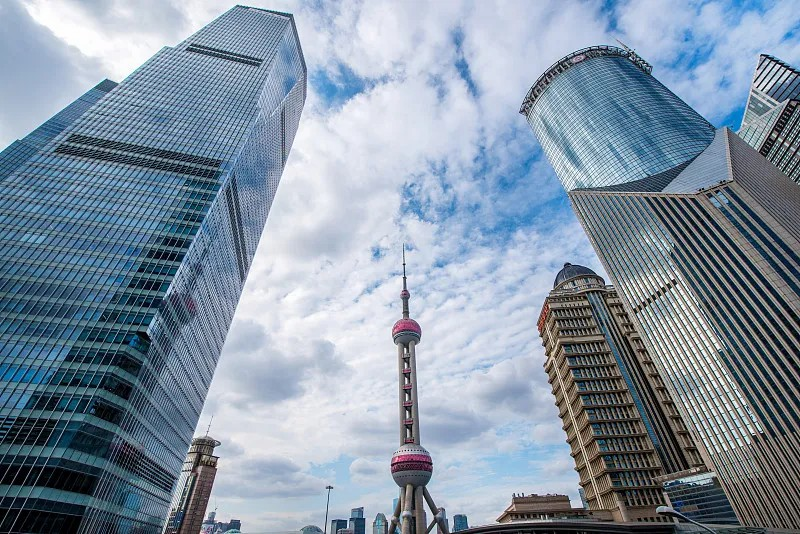Oriental: (387, 244, 450, 534)
